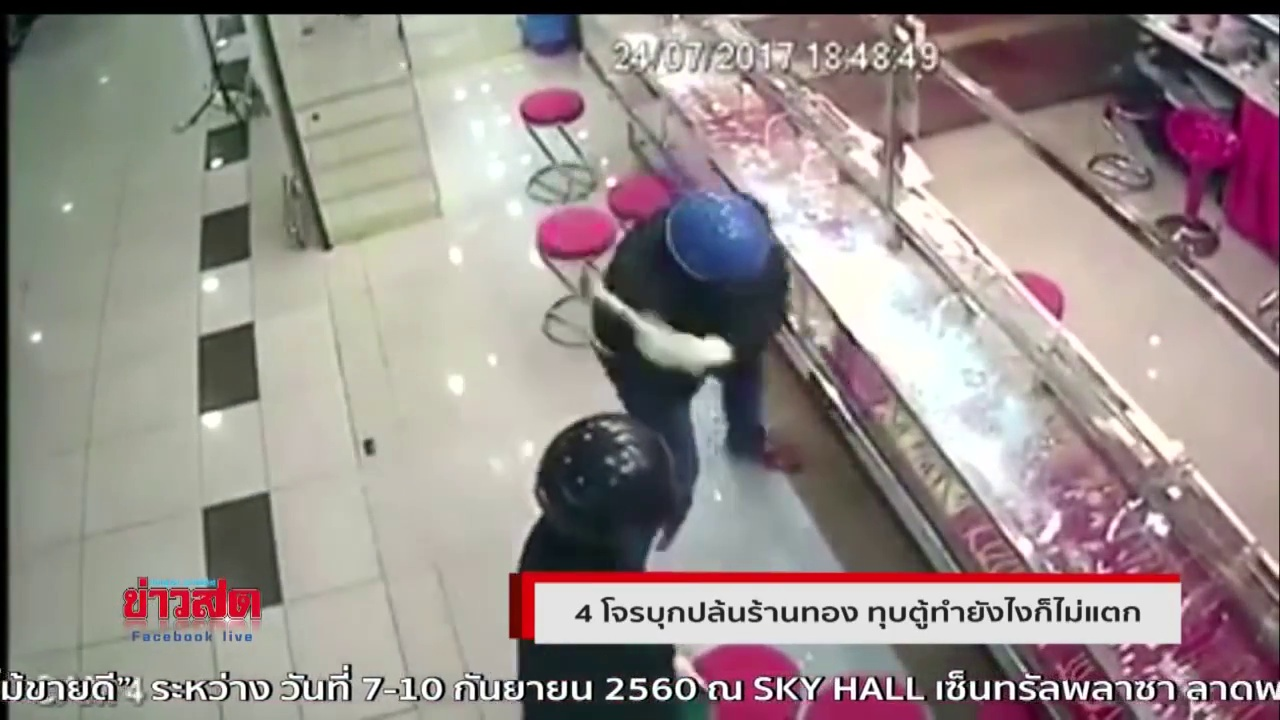helmet: (530, 409, 688, 561), (666, 184, 774, 287)
